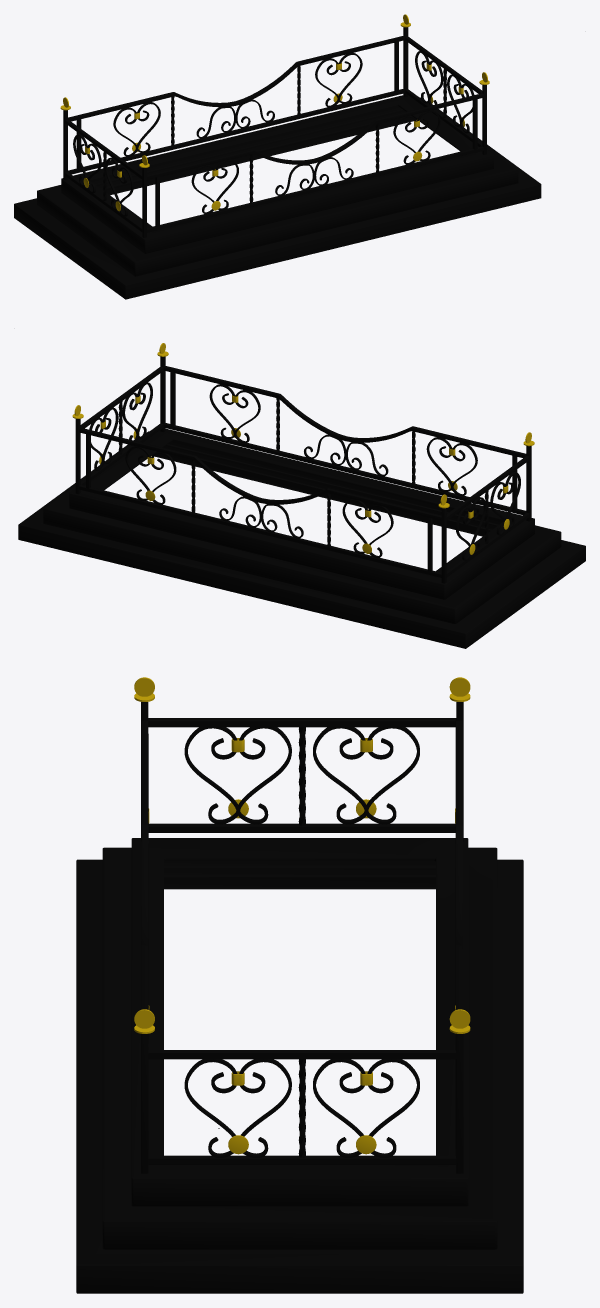
Rendered from Цветник Сердце черный [u_100_u].glb.
The picture shows the model from 3 angles, top to bottom: view 1: azimuth 30°, elevation 25°; view 2: azimuth 150°, elevation 25°; view 3: azimuth 270°, elevation 25°; orthographic projection. The views are drawn at different scales.
Parts seen in each view (by area): view 1: Плоскость.194; view 2: Плоскость.194; view 3: Плоскость.194.
Part boxes in pixels (left/top/right/bottom): Плоскость.194: left=14, top=14, right=541, bottom=299; Плоскость.194: left=18, top=343, right=585, bottom=648; Плоскость.194: left=76, top=677, right=523, bottom=1293.
Size of the model in its own units: 2.38 by 0.5644 by 0.9311.
